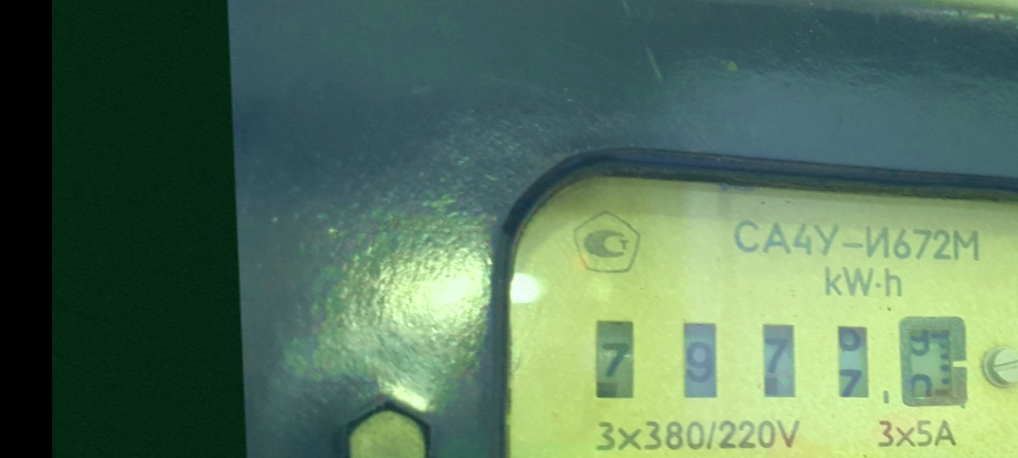0: (911, 370, 935, 400)
7: (599, 337, 634, 383), (838, 360, 869, 403), (764, 334, 794, 376)
9: (685, 338, 718, 386), (908, 326, 939, 359)
screen: (581, 292, 987, 436)
